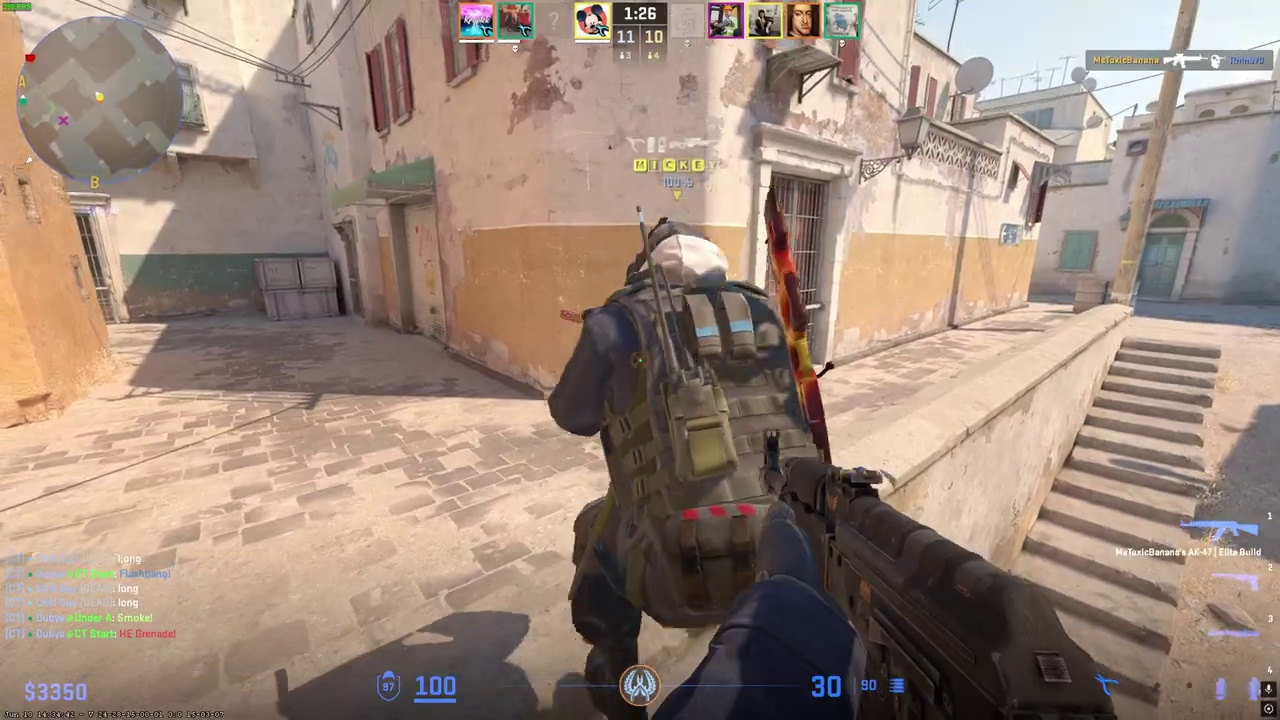CT: (553, 216, 809, 715)
